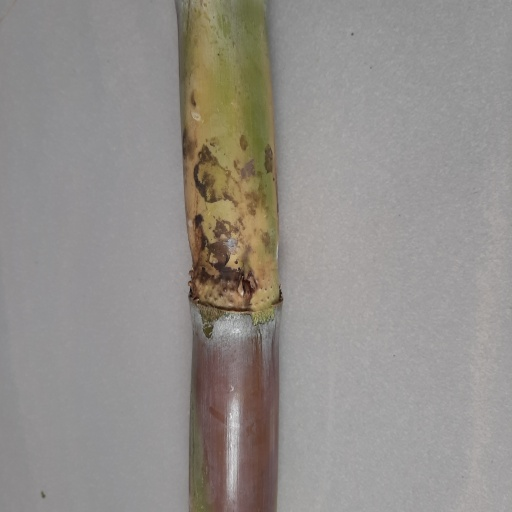Damage_Bud: (234, 277, 256, 311)
